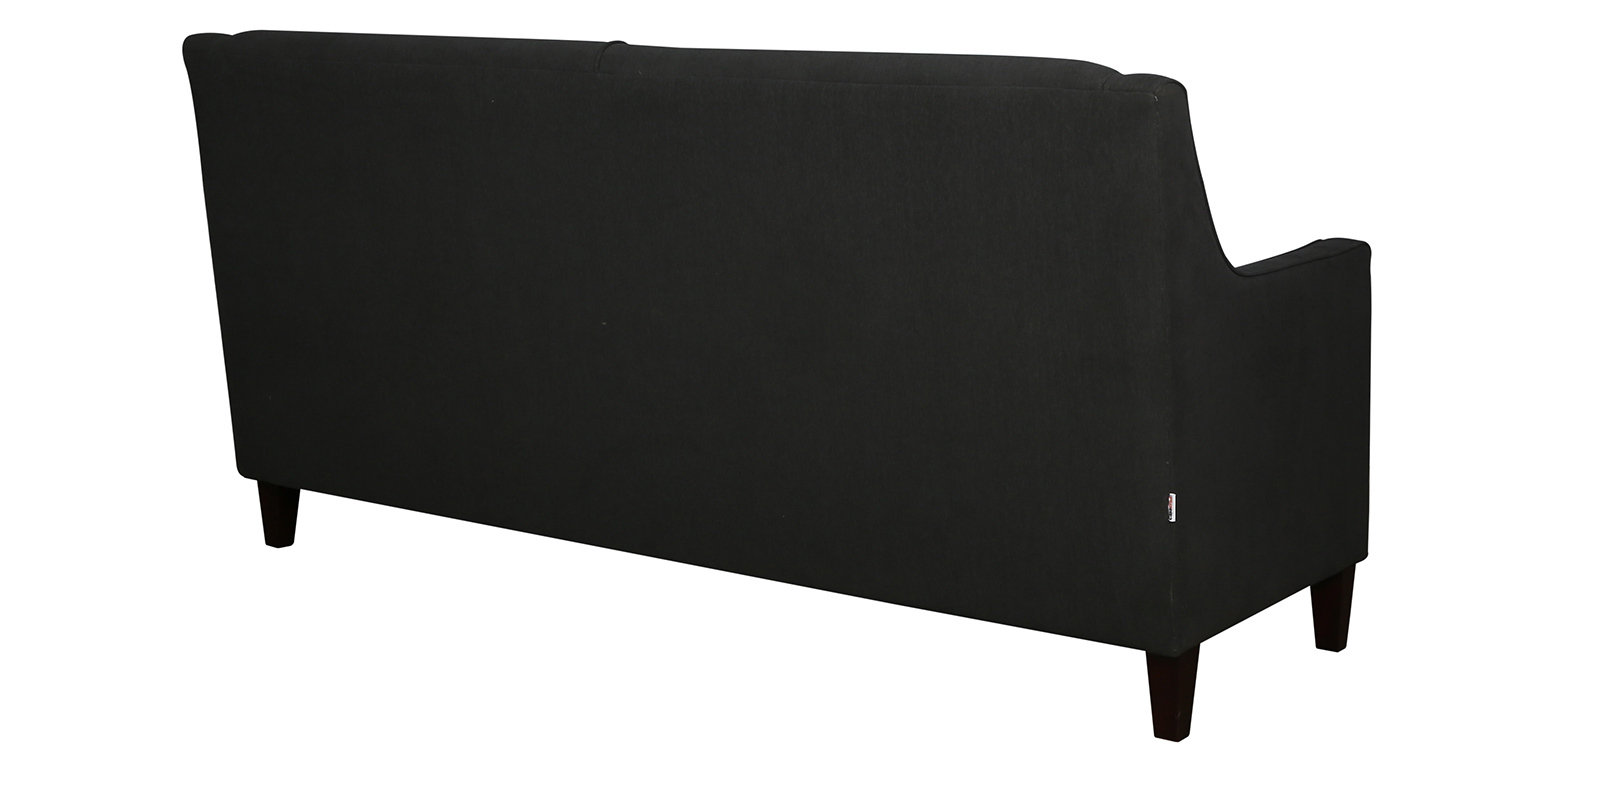Oscar Three Seater Sofa in Charcoal Grey Colour by CasaCraft: (180, 28, 1370, 741)
